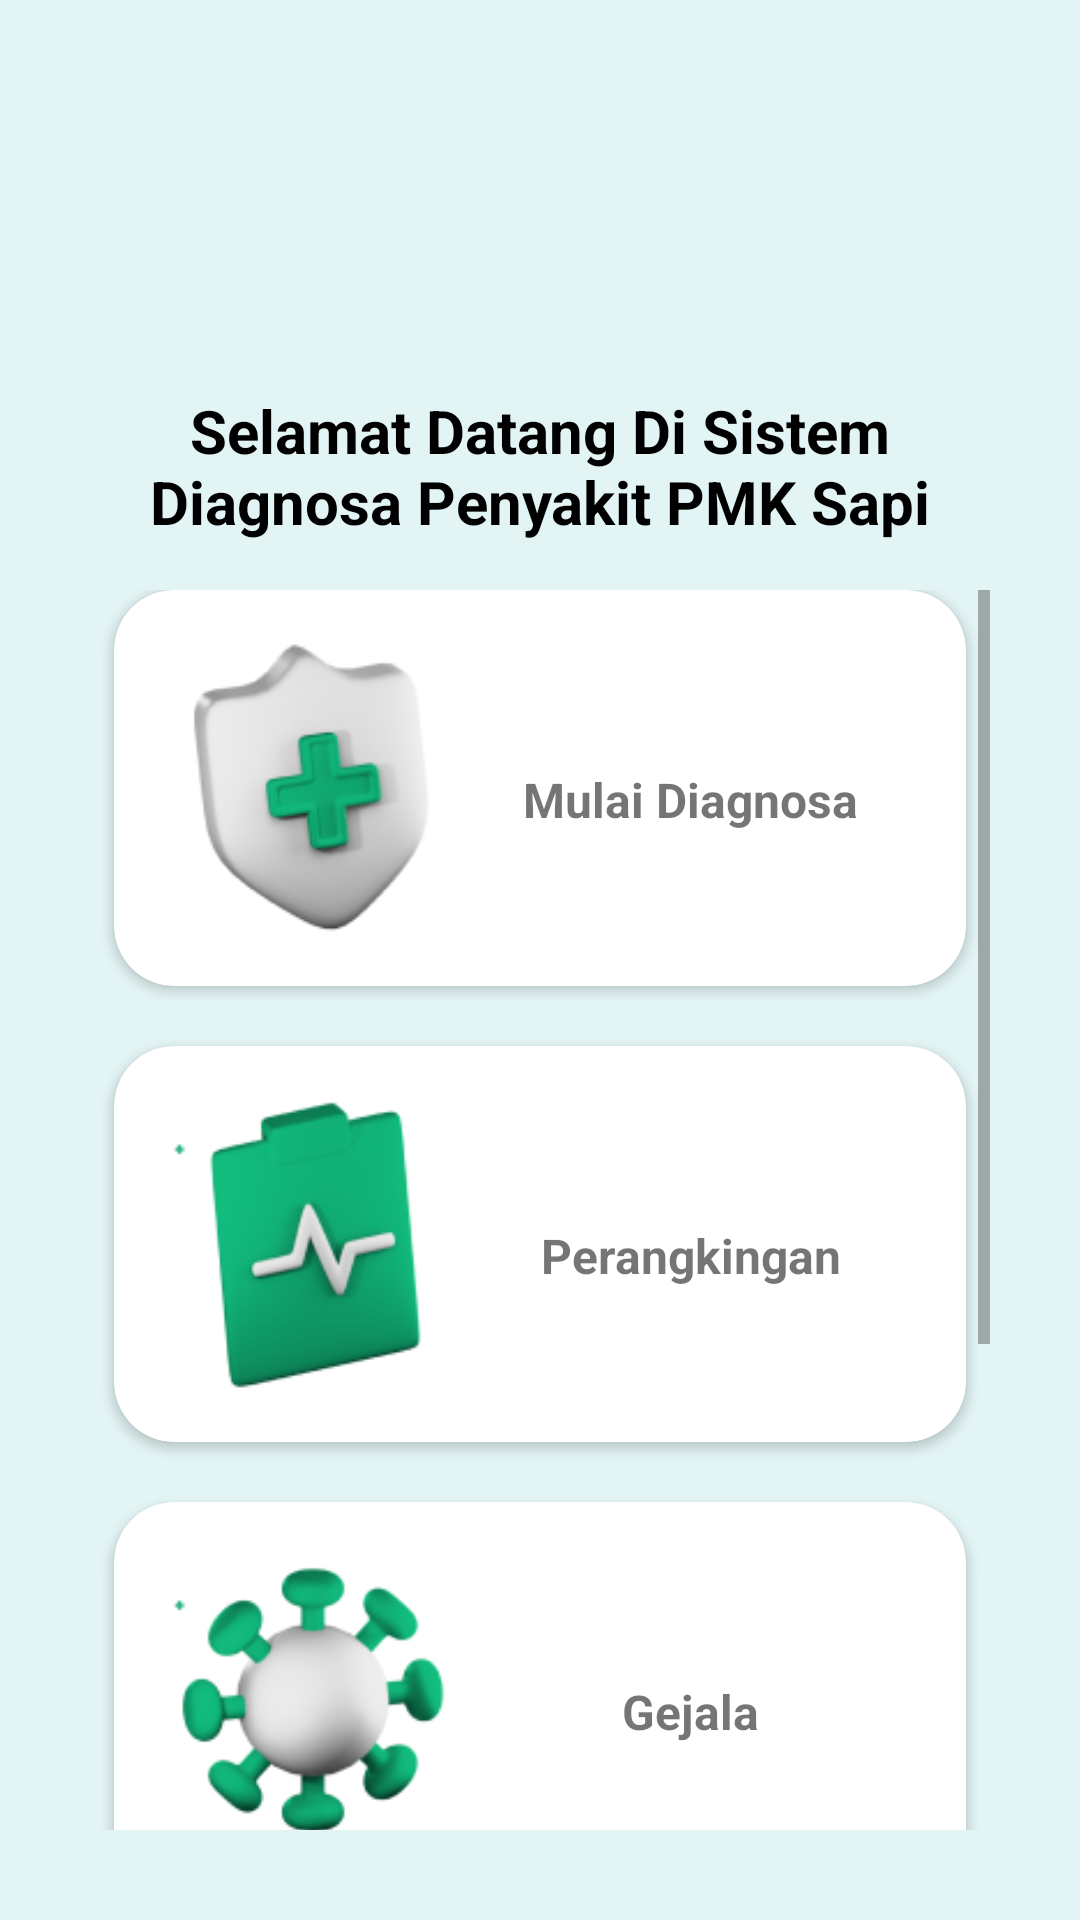

Named icons in this screenshot (1080px x 1920px) and their bounding boxes, (x1, y1, x2, y2):
kriteria: (174, 1102, 421, 1388)
